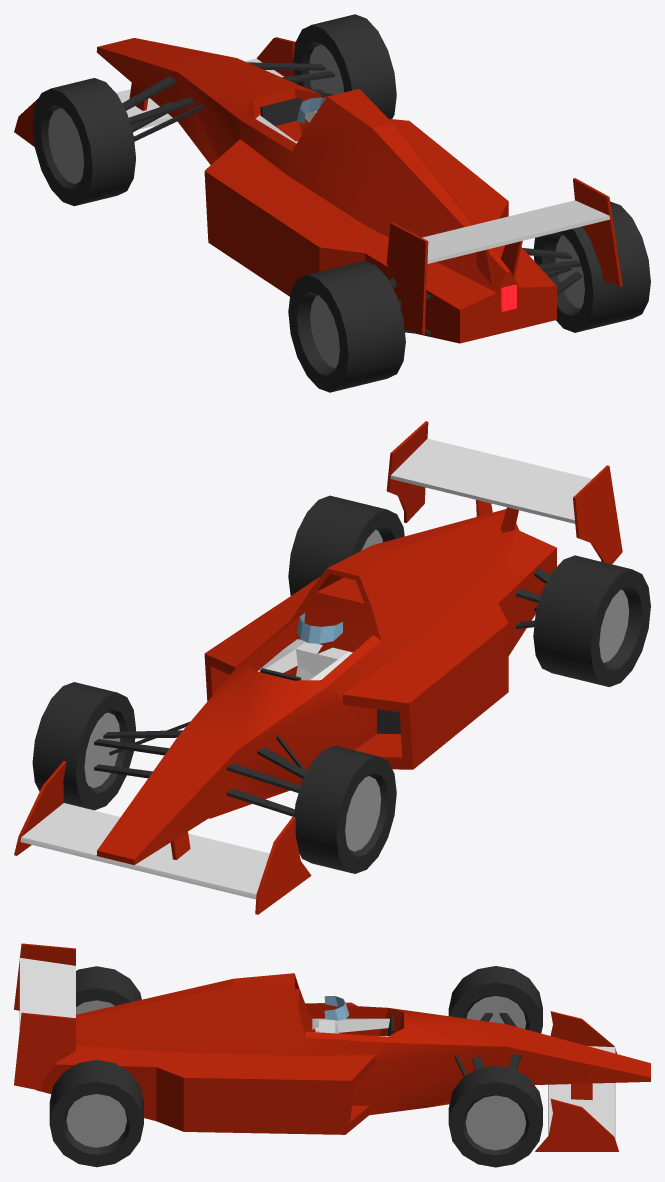
The model's file is car-formula-red.glb.
3 renders of one model, top to bottom at view 1: azimuth 30°, elevation 25°; view 2: azimuth 150°, elevation 25°; view 3: azimuth 270°, elevation 25°, orthographic. The views are drawn at different scales.
Visible parts, largest first — view 1: car-formula-red; view 2: car-formula-red; view 3: car-formula-red.
Part boxes in pixels (x1=…): car-formula-red: x1=14, y1=14, x2=650, y2=392; car-formula-red: x1=14, y1=421, x2=650, y2=914; car-formula-red: x1=14, y1=943, x2=650, y2=1167.
Size of the model in its own units: 2.36 by 1.24 by 5.47.
